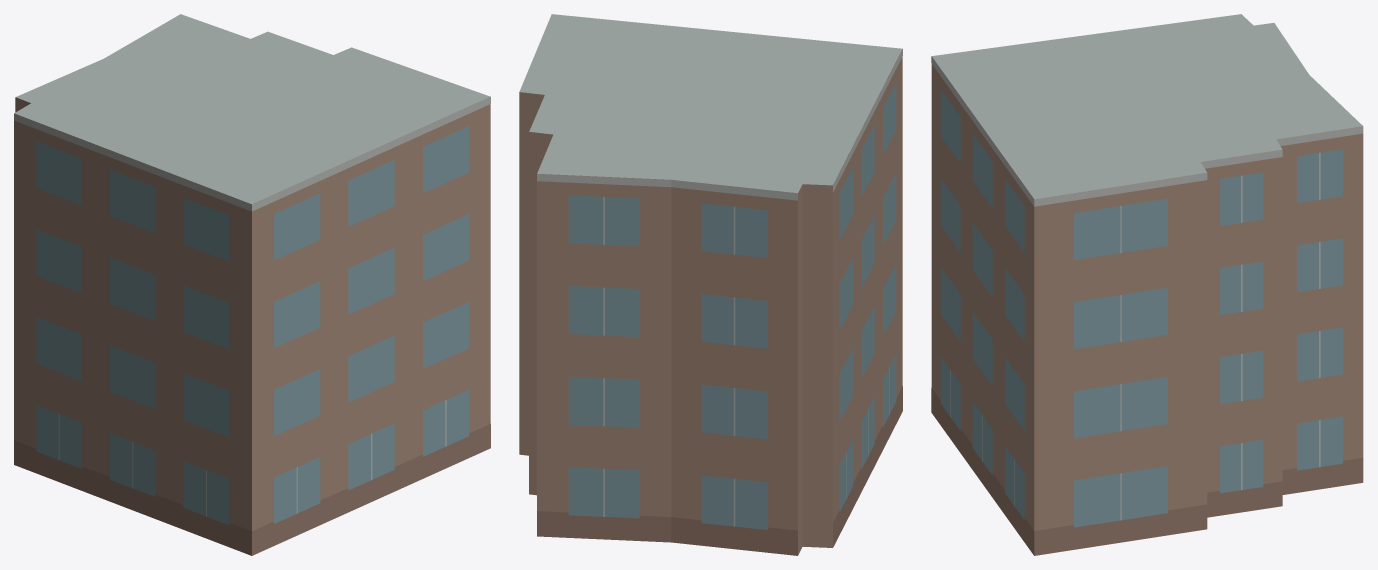
Rendered from survey-upis-32839683.glb.
The picture shows the model from 3 angles, left to right: view 1: azimuth 30°, elevation 25°; view 2: azimuth 150°, elevation 25°; view 3: azimuth 270°, elevation 25°; orthographic projection. The views are drawn at different scales.
Parts seen in each view (by area): view 1: survey-upis-32839683.tmp; view 2: survey-upis-32839683.tmp; view 3: survey-upis-32839683.tmp.
Boxes of the visible parts, x1,y1,x2,y2 form: survey-upis-32839683.tmp: (14, 14, 490, 555); survey-upis-32839683.tmp: (519, 14, 902, 555); survey-upis-32839683.tmp: (931, 14, 1363, 555).
Size of the model in its own units: 13.28 by 11.9 by 13.07.
